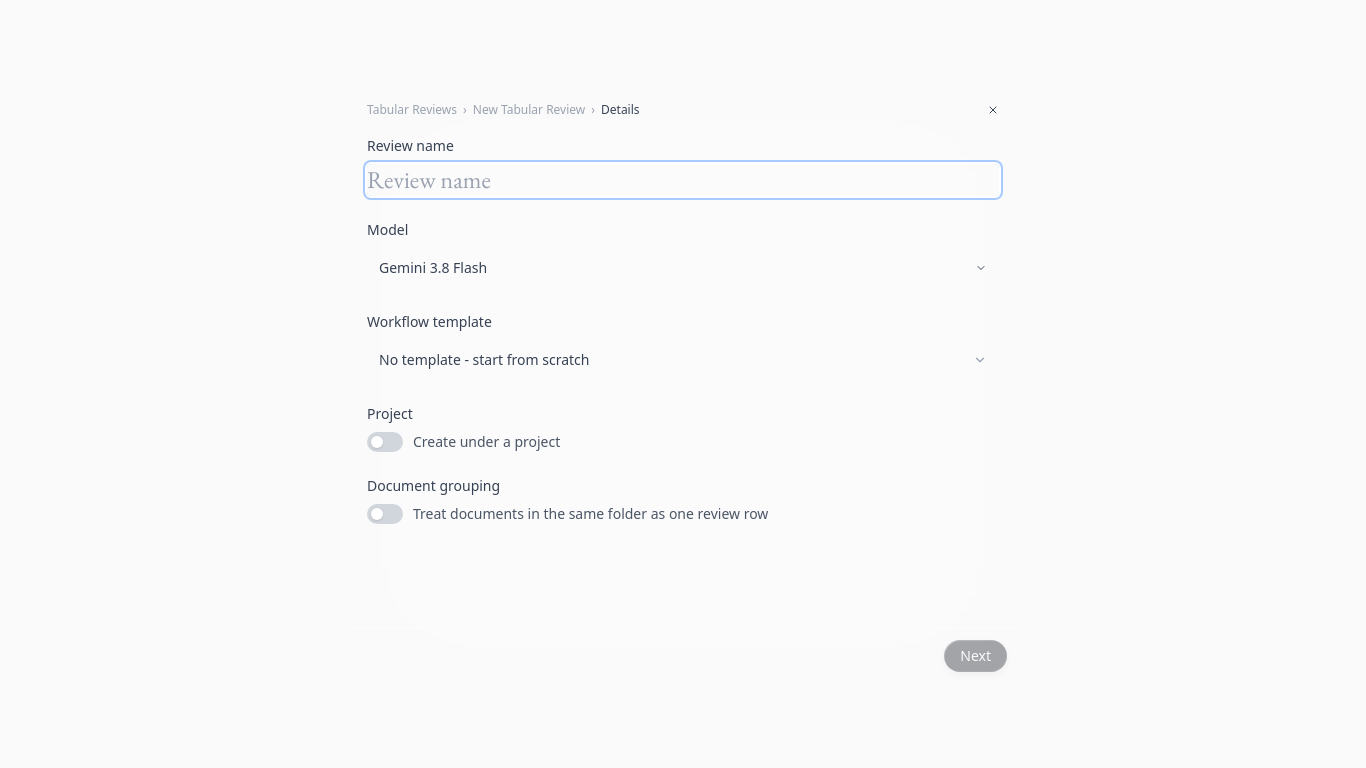
Scenario: NewTRModal load failures › says when the chosen project's files could not be loaded
Click the switch labelled "Create under a project" at [464, 442], box [367,432,560,452]
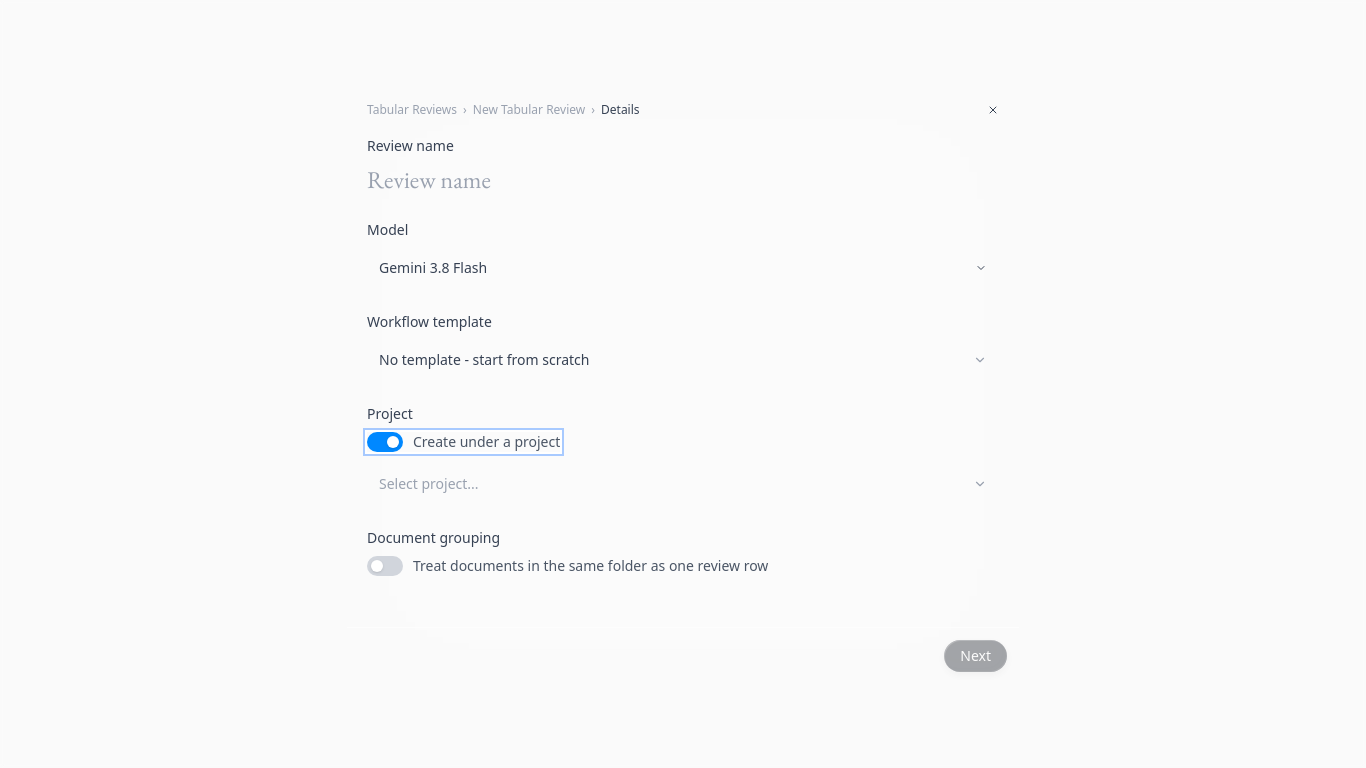
Click the button "Select project..." at [429, 484], box [367,464,999,504]
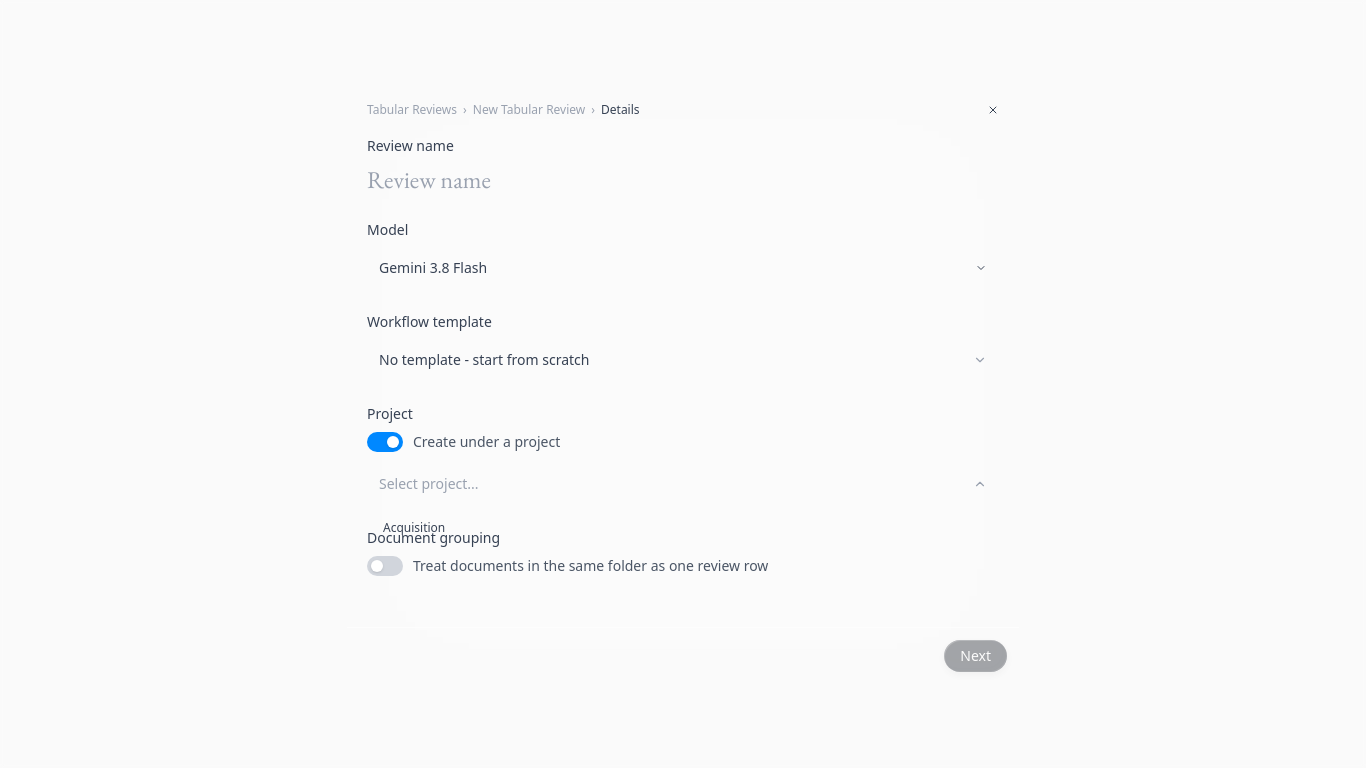
Click the menu item "Acquisition" at [414, 528], box [383,519,445,536]
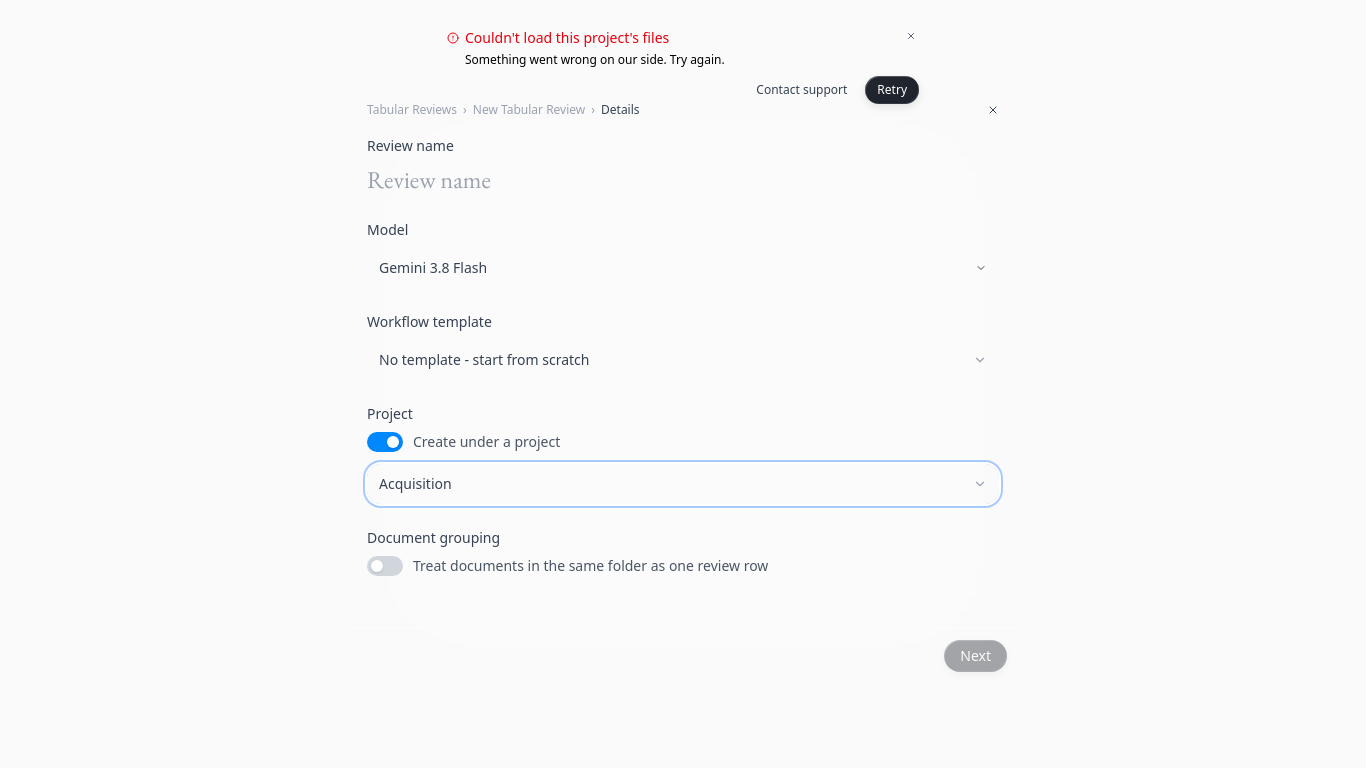
Expected: the message does not show "API error: 500", [439,20,927,112]
Now the message shows "Couldn't load this project's files", box [465,28,669,47]
